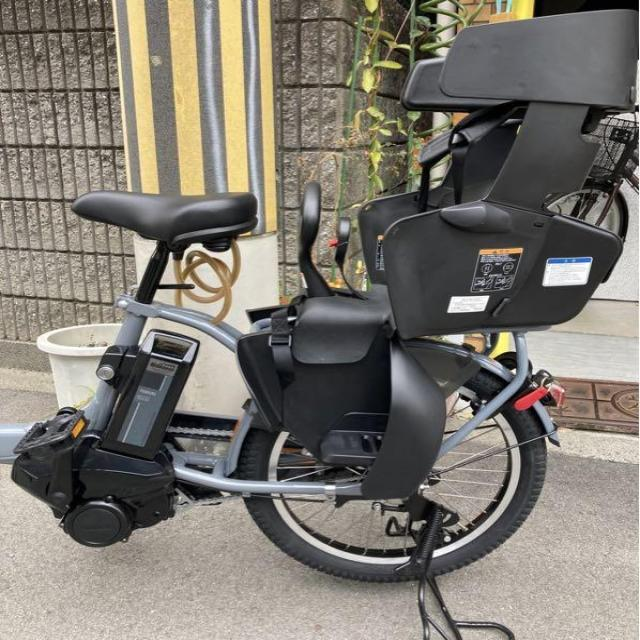battery: (109, 332, 199, 457)
childseat: (224, 0, 640, 496)
